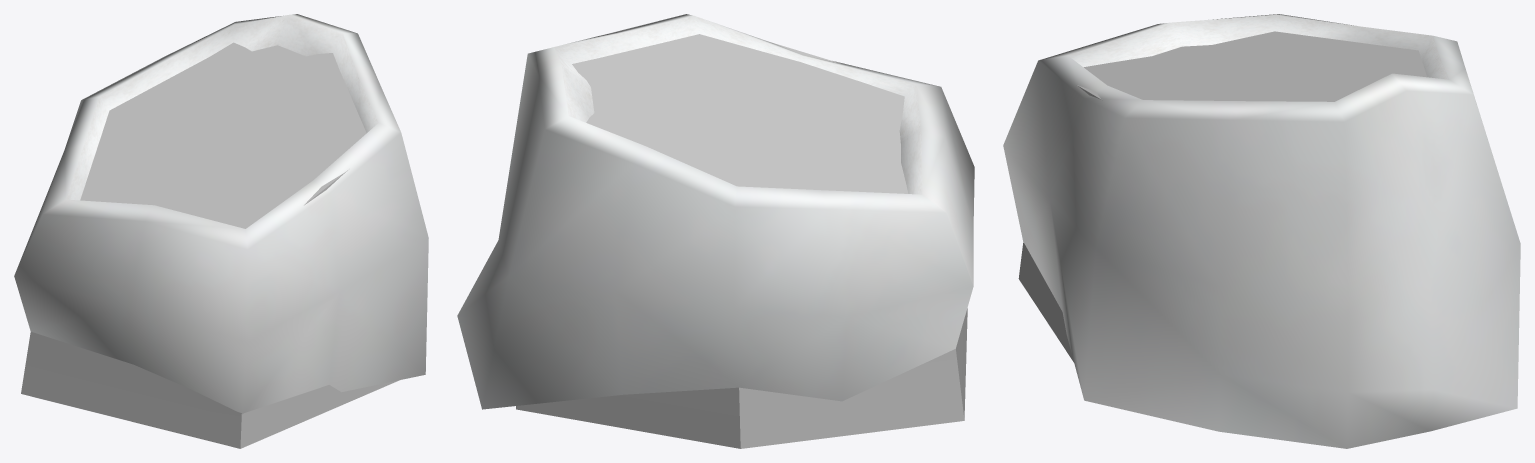
File: SM_DeadTrunk_02.FBX
3 views of the same model, side by side, from view 1: azimuth 30°, elevation 25°; view 2: azimuth 150°, elevation 25°; view 3: azimuth 270°, elevation 25° (orthographic). The views are drawn at different scales.
Parts seen in each view (by area): view 1: SM_DeadTrunk_02; view 2: SM_DeadTrunk_02; view 3: SM_DeadTrunk_02.
Boxes of the visible parts, <box> form: SM_DeadTrunk_02: <box>14,14,428,448</box>; SM_DeadTrunk_02: <box>457,14,974,448</box>; SM_DeadTrunk_02: <box>1003,14,1520,448</box>.
Bounding box in the file's own units: 62.99 × 40.8 × 58.42.
